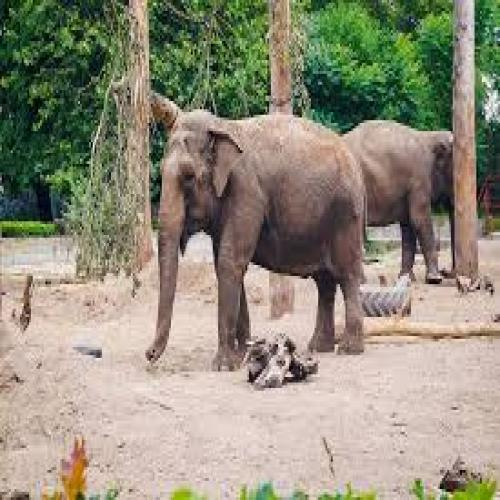asian_elephant-endangered: (143, 94, 365, 377), (345, 118, 457, 282)
